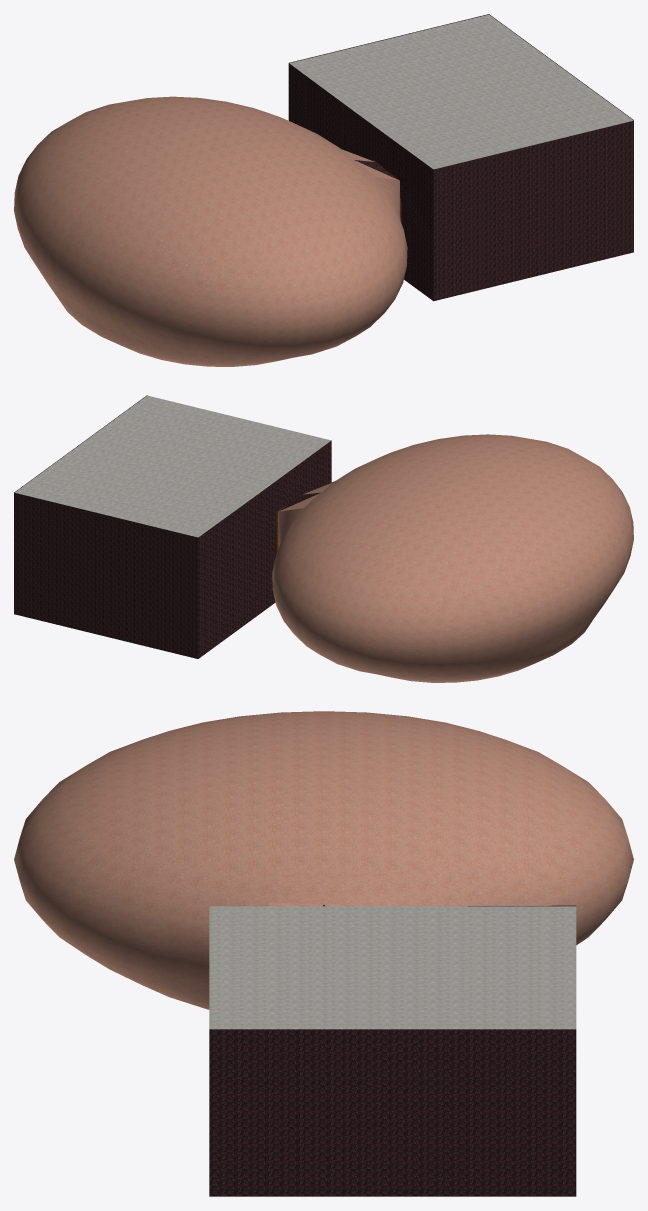
File: telpa_02.glb
3 renders of one model, top to bottom at view 1: azimuth 30°, elevation 25°; view 2: azimuth 150°, elevation 25°; view 3: azimuth 270°, elevation 25°, orthographic. The views are drawn at different scales.
Visible parts, largest first — view 1: defaultMaterial; view 2: defaultMaterial; view 3: defaultMaterial.
Boxes of the visible parts, box(x1,y1,x2,y2) form: defaultMaterial: box(14, 14, 633, 366); defaultMaterial: box(14, 395, 633, 682); defaultMaterial: box(14, 711, 633, 1196).
Bounding box in the file's own units: 15.26 × 4.78 × 12.15.
8 materials, 8 textured.
